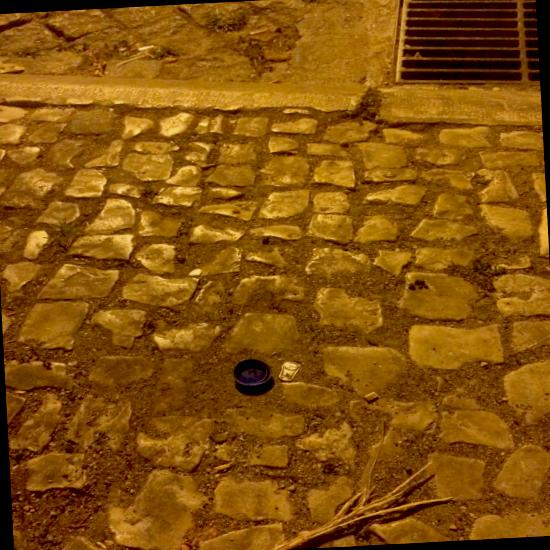Cigarette: (249, 29, 266, 35)
Plastic bottle cap: (233, 359, 272, 386)
Pop tab: (279, 361, 301, 381)
